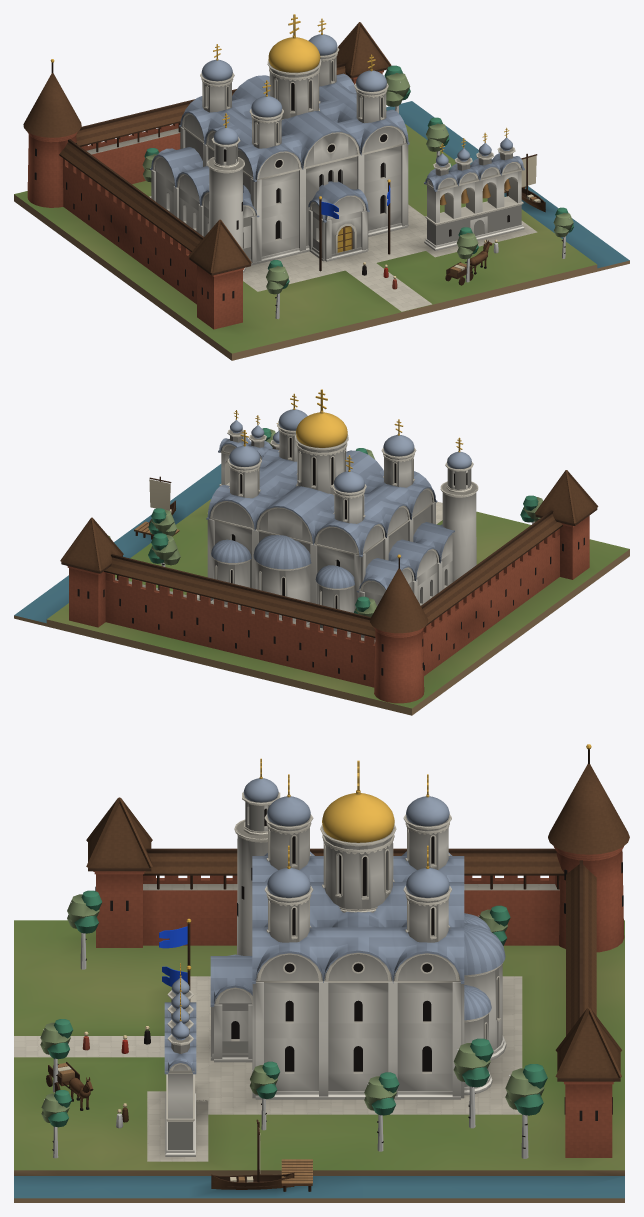
The model's file is lm_novgorod.glb.
The picture shows the model from 3 angles, top to bottom: view 1: azimuth 30°, elevation 25°; view 2: azimuth 150°, elevation 25°; view 3: azimuth 270°, elevation 25°; orthographic projection. The views are drawn at different scales.
Visible parts, largest first — view 1: lm_novgorod; view 2: lm_novgorod; view 3: lm_novgorod.
Part boxes in pixels (x1,y1,x2,y2): lm_novgorod: (14,14,629,360); lm_novgorod: (14,389,629,715); lm_novgorod: (14,744,629,1202).
Bounding box in the file's own units: 2.32 × 1.18 × 2.22.
1 material, 1 textured.
